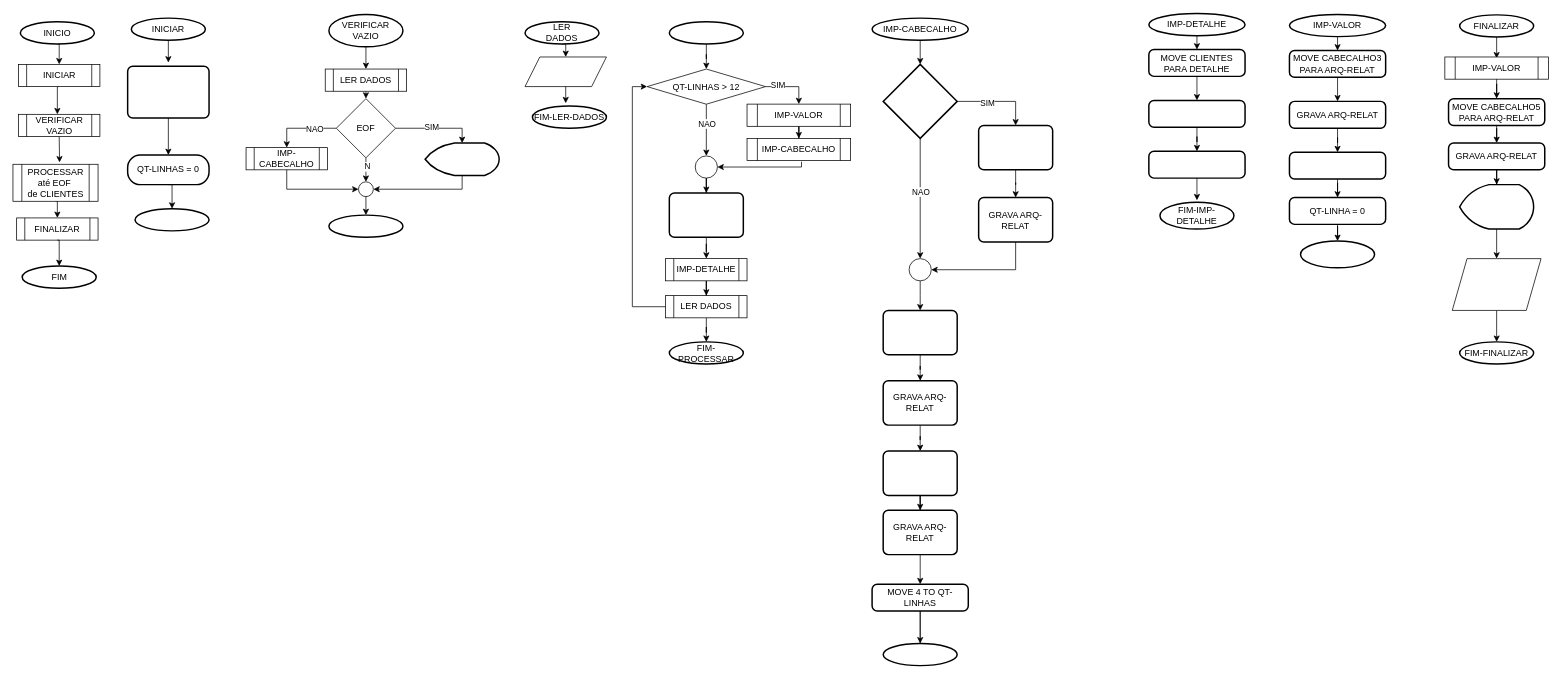
Image size: 1561x679. Some labels were removed from this diagram. Here are the shapes that lost their labels. From the top down, the centre of each, then its label:
pixel 706 32: PROCESSAR
pixel 168 91: ABRIR ARQ-CLIENTES ABRIR ARQ-RELAT
pixel 565 71: LER CLIENTES
pixel 920 101: PAG > 1
pixel 1196 113: MOVE DETALHE PARA ARQ-RELAT
pixel 462 159: ARQUIVO CLIENTES VAZIO
pixel 1015 147: MOVER CABE3 PARA ARQ-RELAT
pixel 1196 164: QT-LINHAS = QT-LINHAS + 1
pixel 1337 165: WRK-ASSI = 0
pixel 171 219: FIM-INICIAR
pixel 365 226: FIM-VERIFICAR-VAZIO
pixel 706 215: ASSINATURA = WRK-ASSI + WRK-VALOR-ASSI
pixel 1496 206: ACU-LIDOS
pixel 1337 254: FIM-IMP-VALOR
pixel 1496 284: FECHAR ARQ-CLIENTES FECHAR ARQ-RELAT
pixel 920 332: MOVER CABE1 PARA ARQ-RELAT
pixel 920 473: MOVER CABE2 PARA ARQ-RELAT
pixel 920 654: FIM-IMP-CABECALHO
